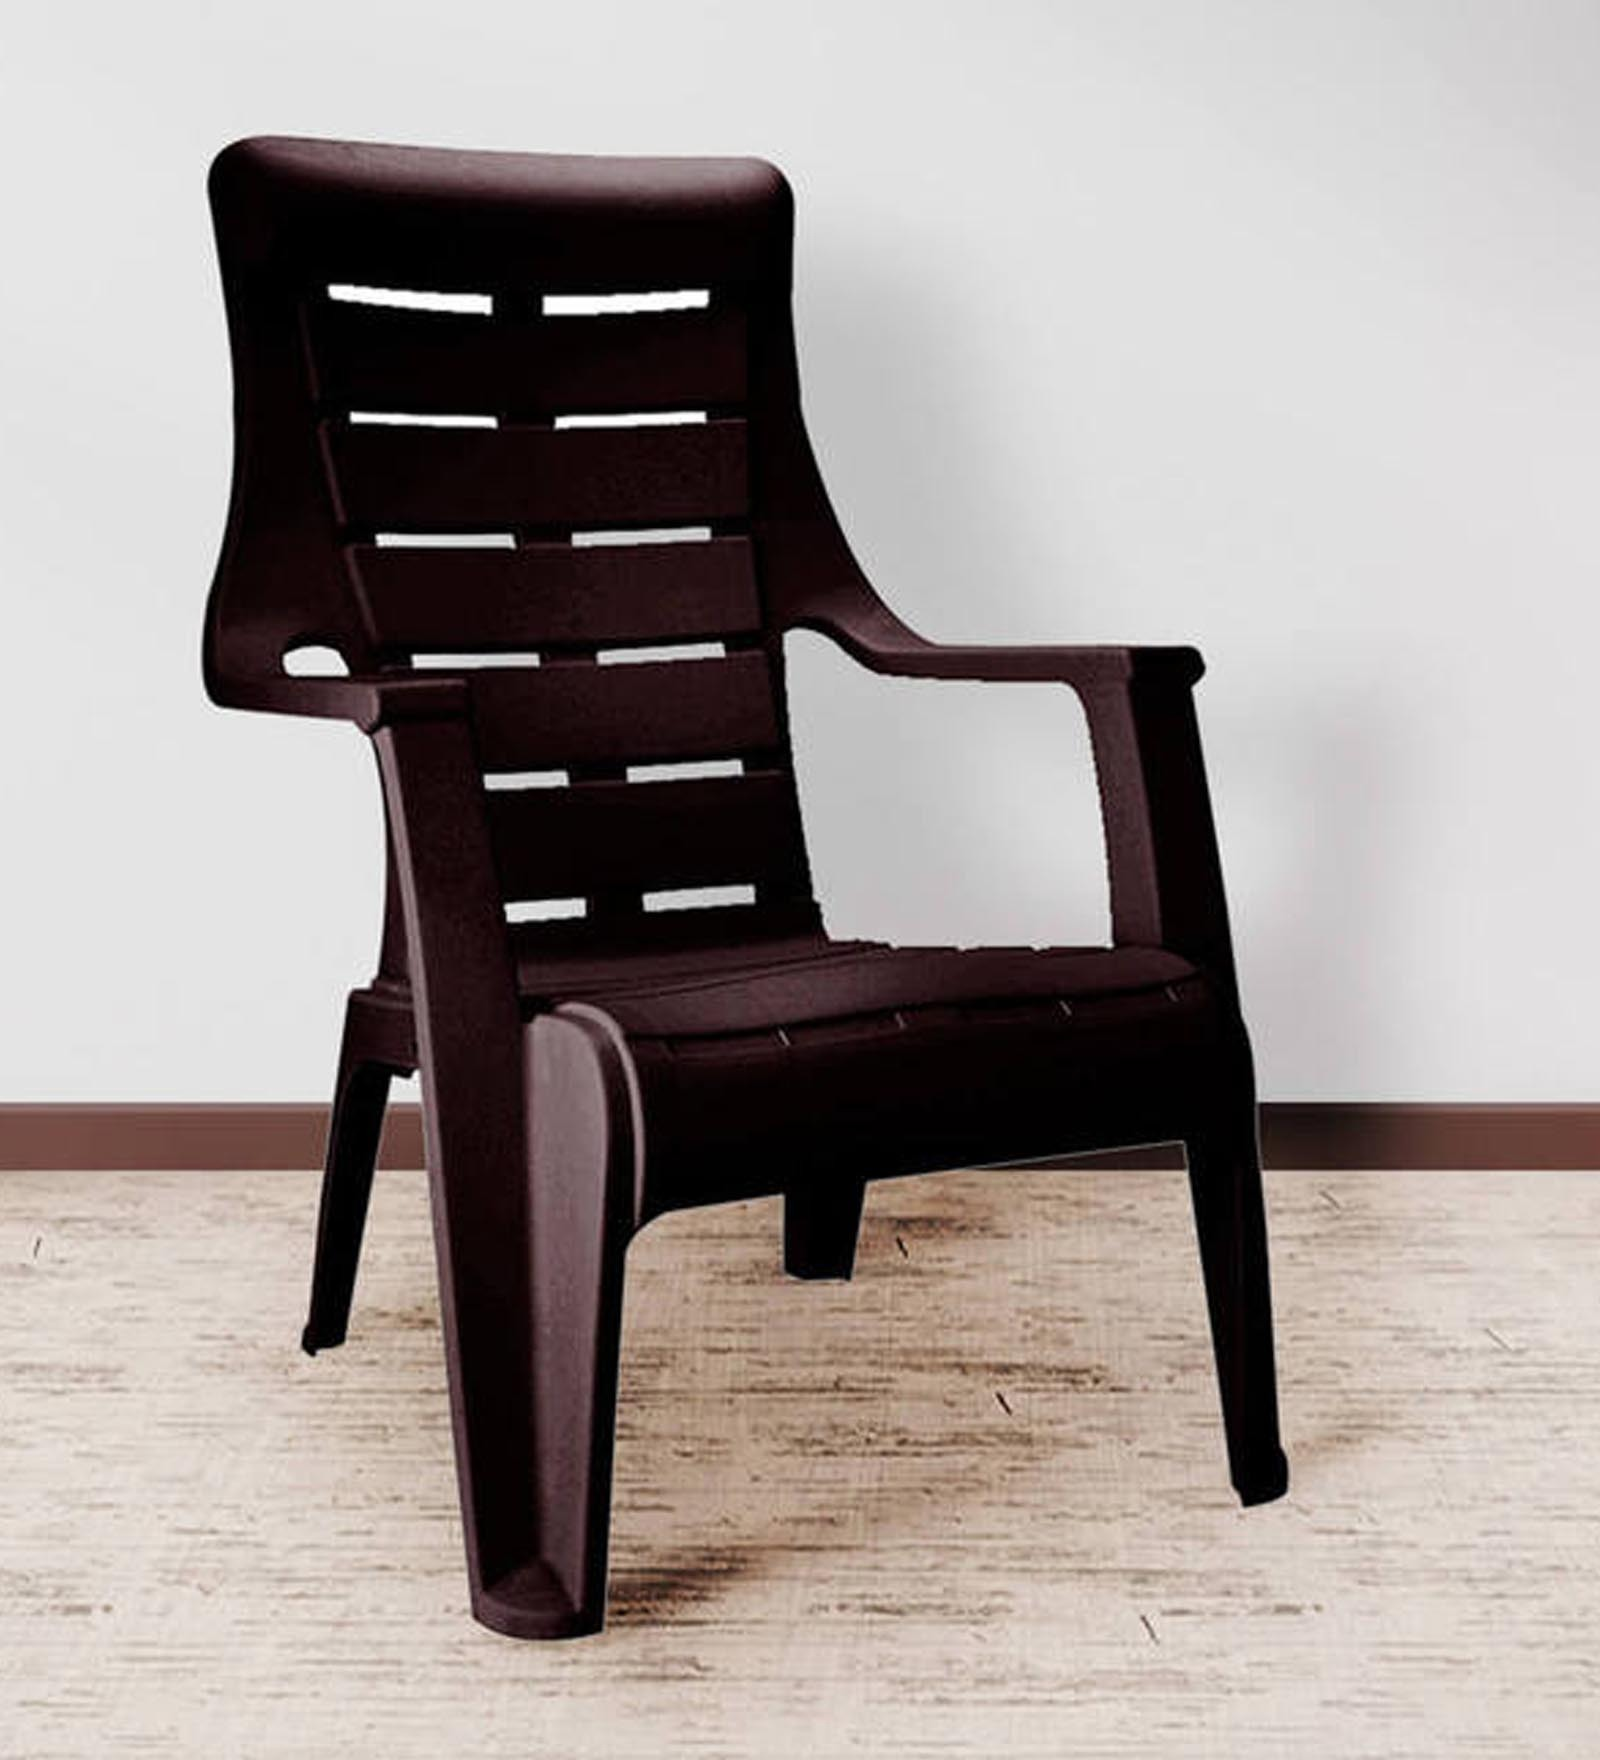Sunday Chair in Brown Colour by Nilkamal: (162, 115, 1341, 1647)
